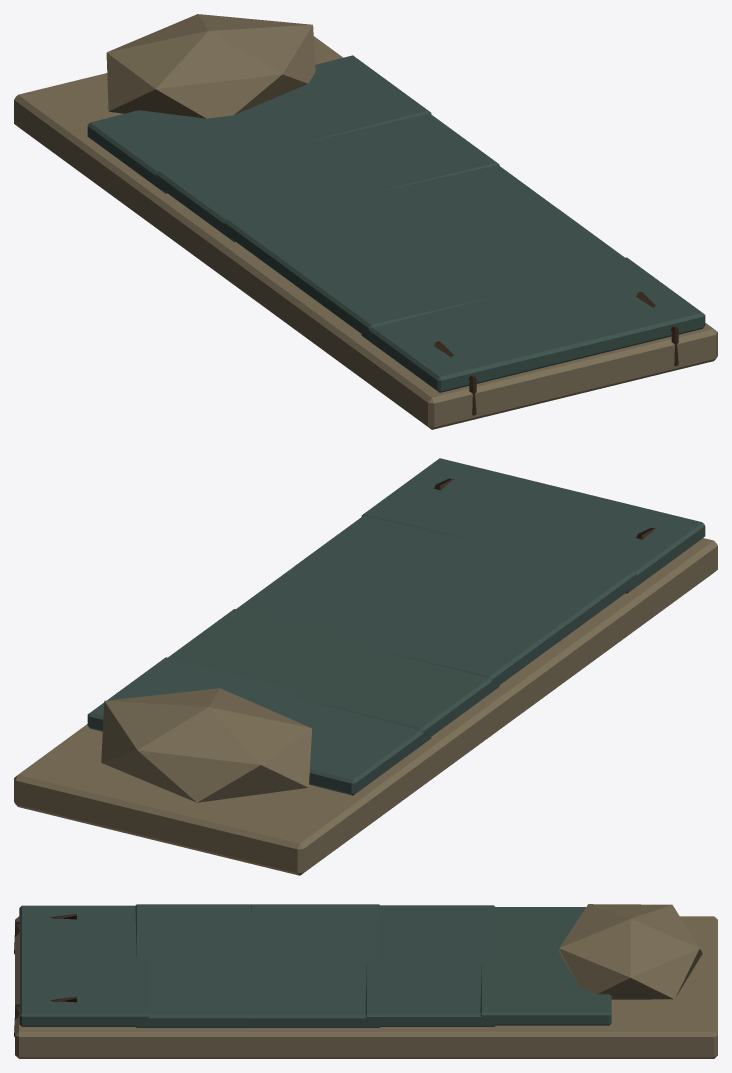
The model's file is bedroll.glb.
3 renders of one model, top to bottom at view 1: azimuth 30°, elevation 25°; view 2: azimuth 150°, elevation 25°; view 3: azimuth 270°, elevation 25°, orthographic. The views are drawn at different scales.
Visible parts, largest first — view 1: Cloth, Wood; view 2: Cloth; view 3: Cloth, Wood.
Part boxes in pixels (x1=…): Cloth: x1=14, y1=14, x2=717, y2=429; Wood: x1=434, y1=292, x2=678, y2=415; Cloth: x1=14, y1=458, x2=717, y2=875; Cloth: x1=15, y1=904, x2=717, y2=1058; Wood: x1=14, y1=914, x2=76, y2=1036.
Size of the model in its own units: 0.66 by 0.2131 by 1.65.
